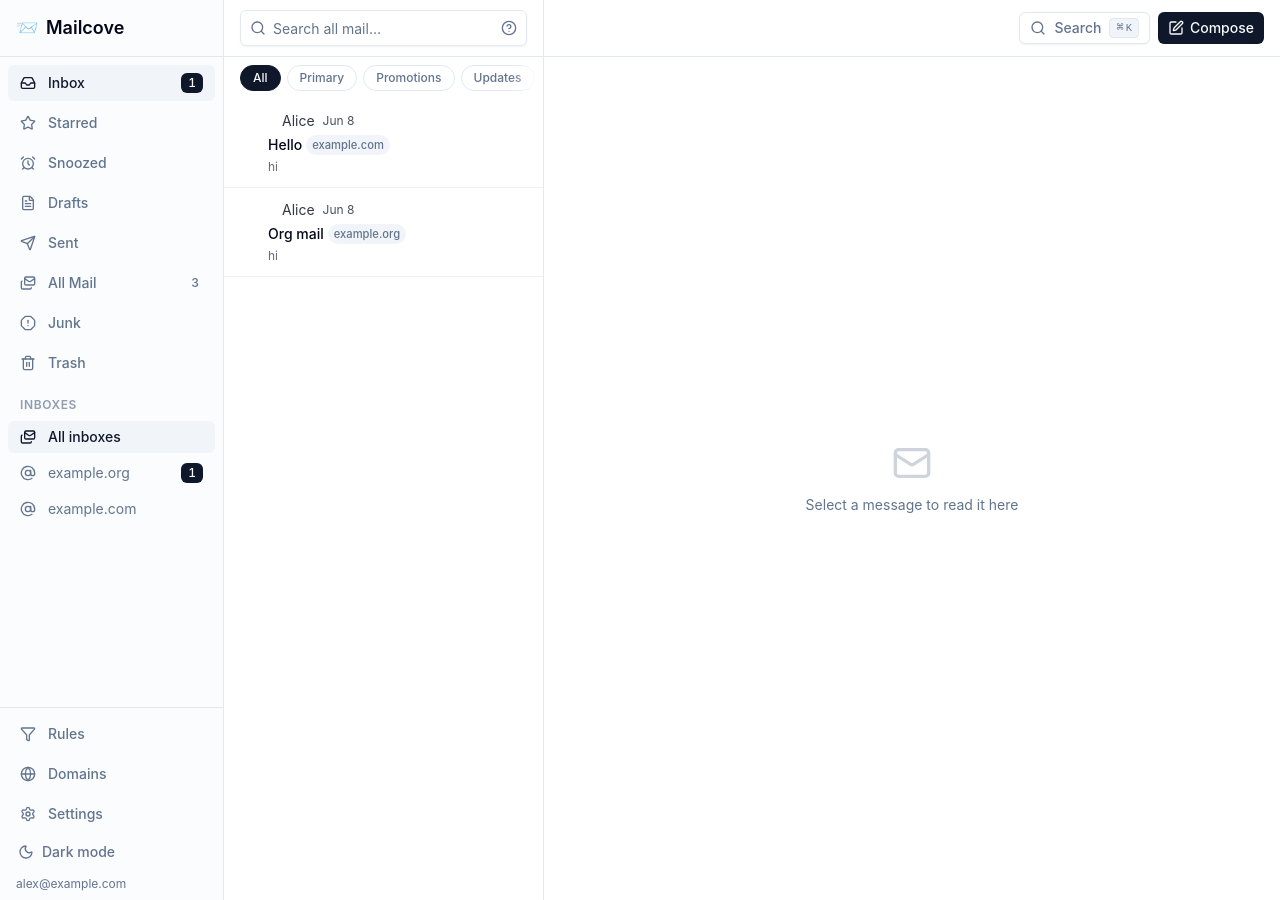
it: Sidebar inbox switcher (multi-domain) › says where it looked when a domain search finds nothing
Expected: the text "Inboxes" is shown, top-left (20, 397), bottom-right (77, 412)
Click the button "example.org 1" at [112, 473], box top-left (8, 457), bottom-right (215, 489)
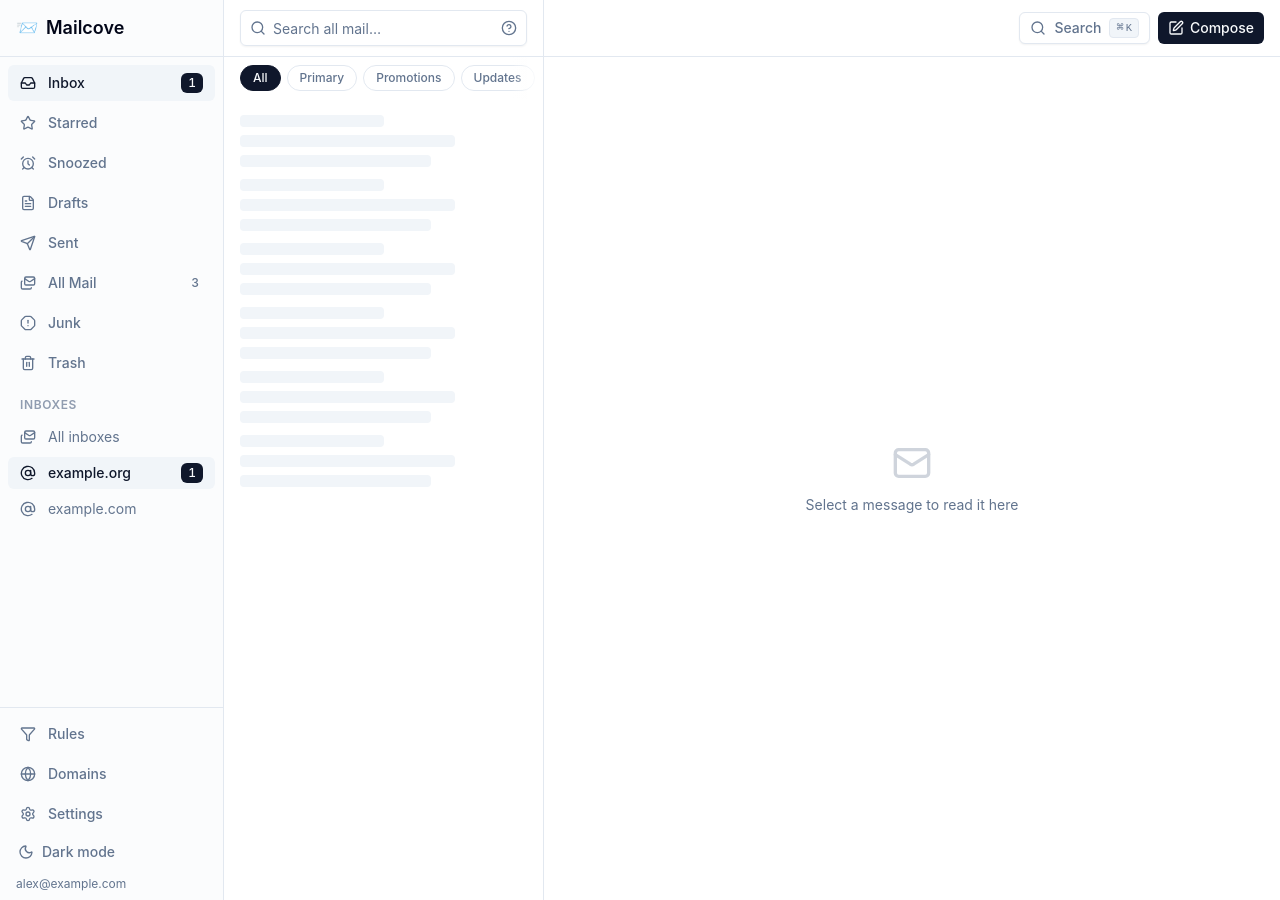
Type "nothing" into the field named "Search messages" at [384, 28], box top-left (240, 10), bottom-right (527, 46)
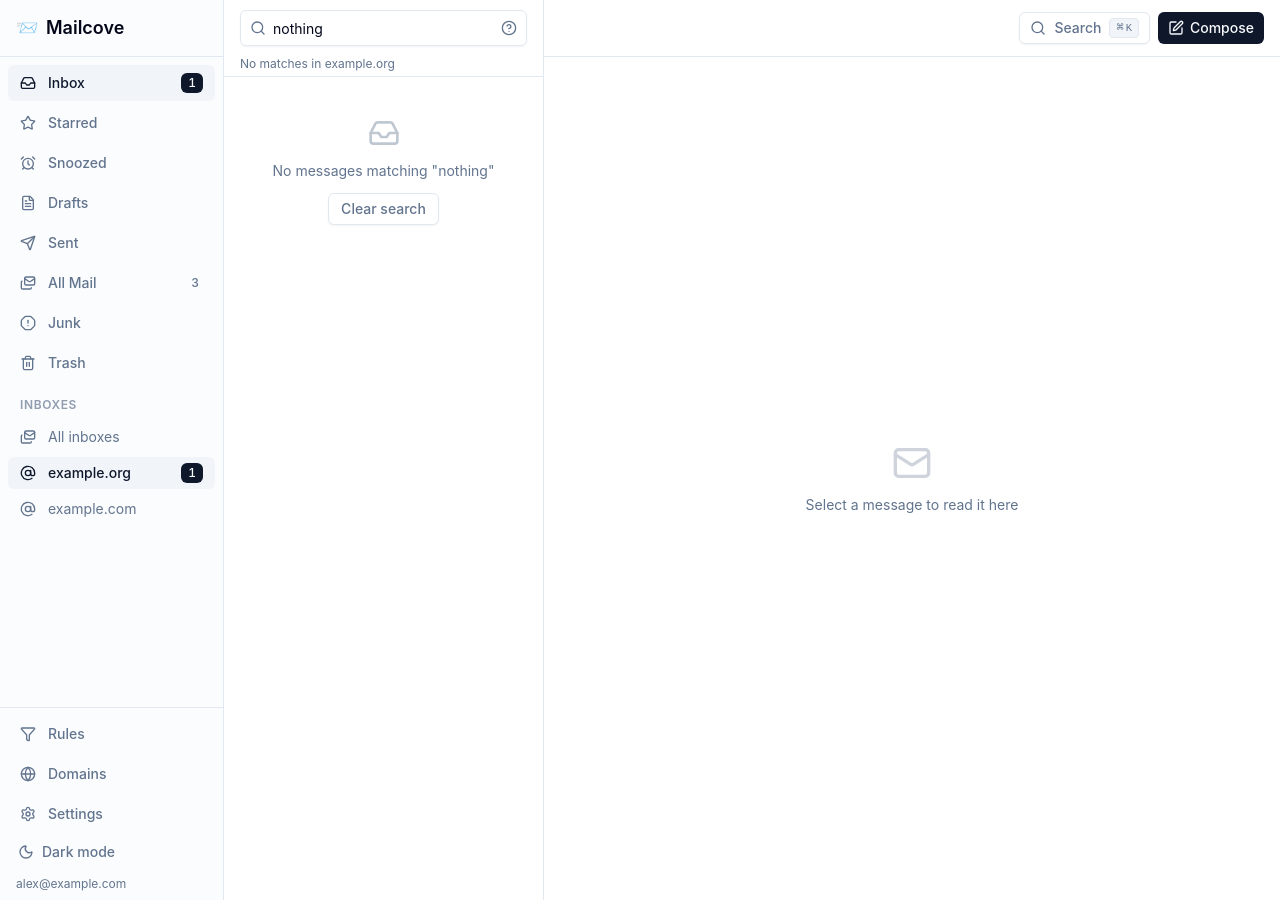
Expected: the text "No matches in example.org" is shown, top-left (240, 56), bottom-right (395, 71)
